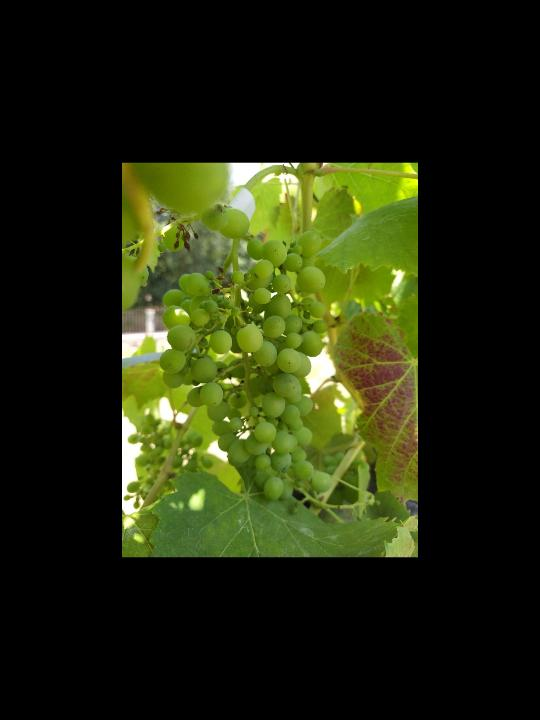grape: (158, 229, 332, 509)
